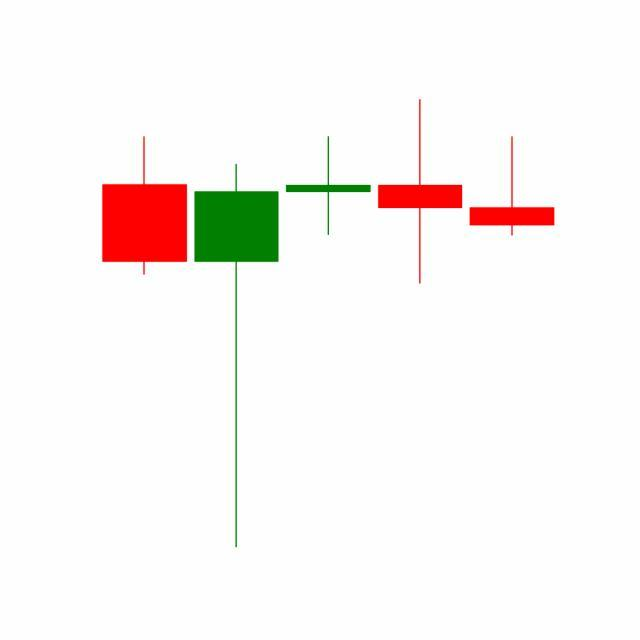Gravestone Doji: (466, 135, 559, 238)
